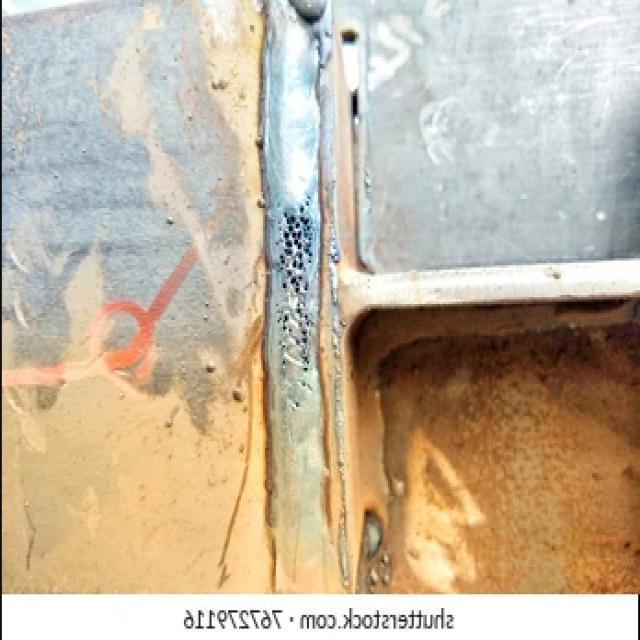Porosity: (273, 191, 319, 299), (275, 298, 316, 414)
